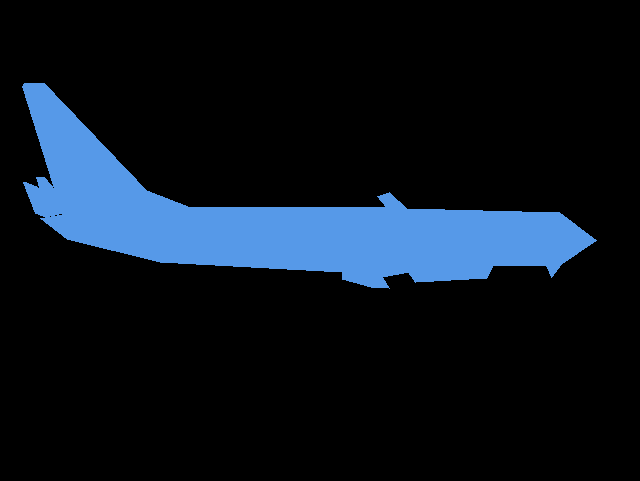Airplane: (22, 83, 596, 289), (23, 182, 64, 218), (36, 177, 59, 205)
